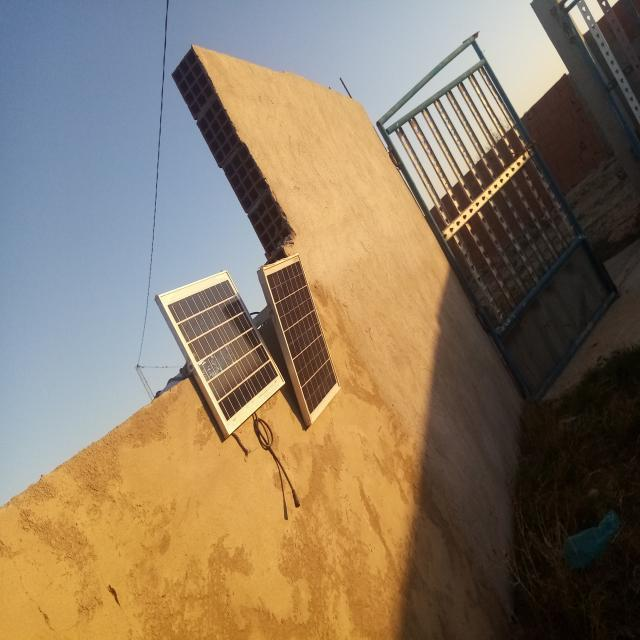Normal Solar Panel: (158, 271, 285, 434), (263, 254, 341, 424)
